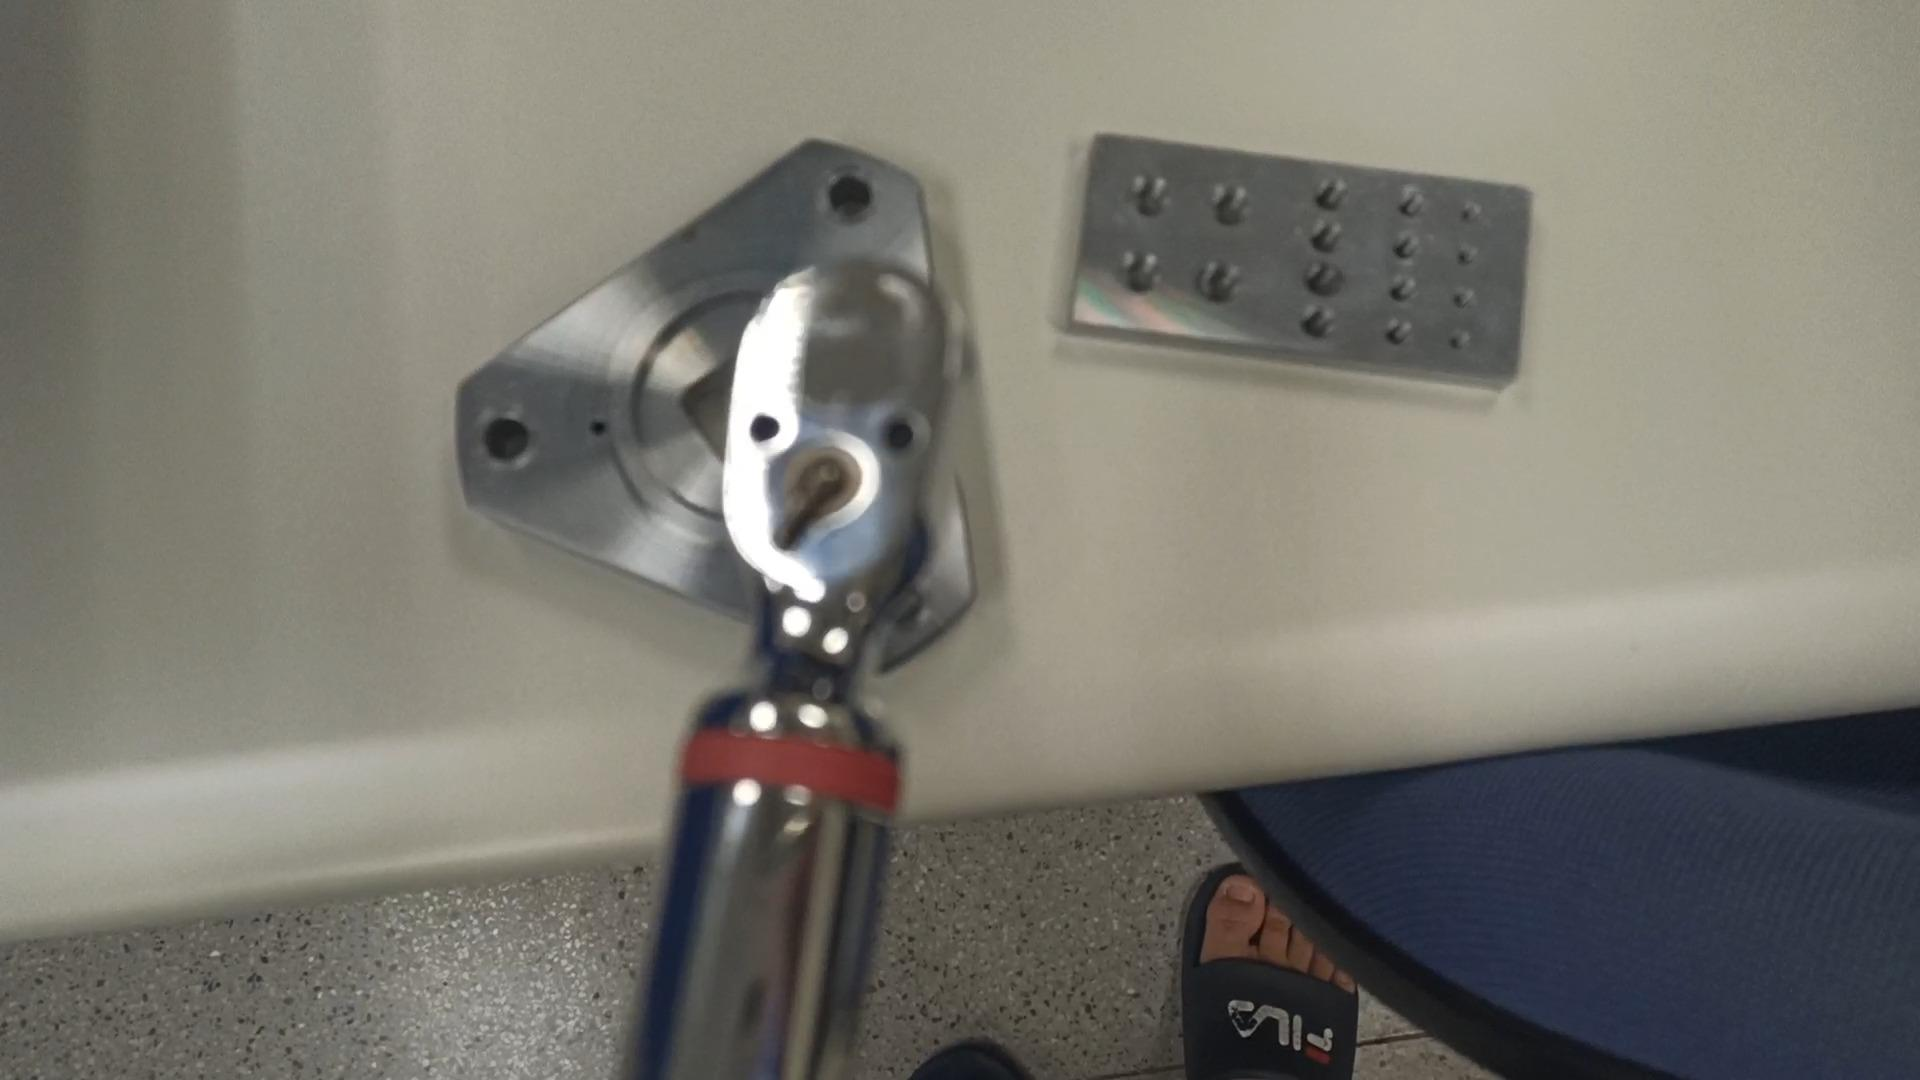Tool: (713, 276, 967, 724)
hole: (476, 410, 537, 477), (819, 174, 874, 232), (1191, 257, 1247, 309), (1114, 248, 1166, 298), (1127, 175, 1176, 228), (1208, 181, 1255, 233), (1302, 262, 1349, 301), (1295, 303, 1338, 344), (1308, 178, 1353, 218), (1305, 218, 1349, 256), (1390, 186, 1428, 224), (1387, 232, 1424, 268), (1383, 318, 1419, 351), (1389, 274, 1423, 306), (1453, 199, 1482, 231), (1451, 244, 1477, 274), (1447, 327, 1473, 356), (1448, 285, 1474, 311)
